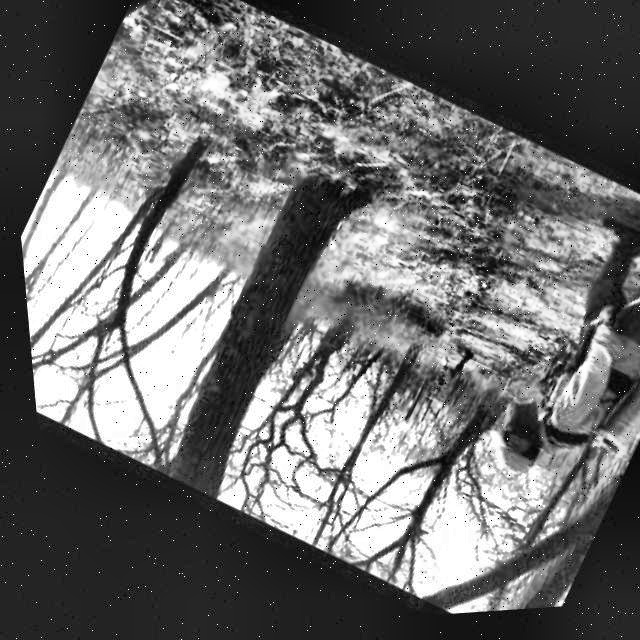Fire: (109, 31, 519, 367)
